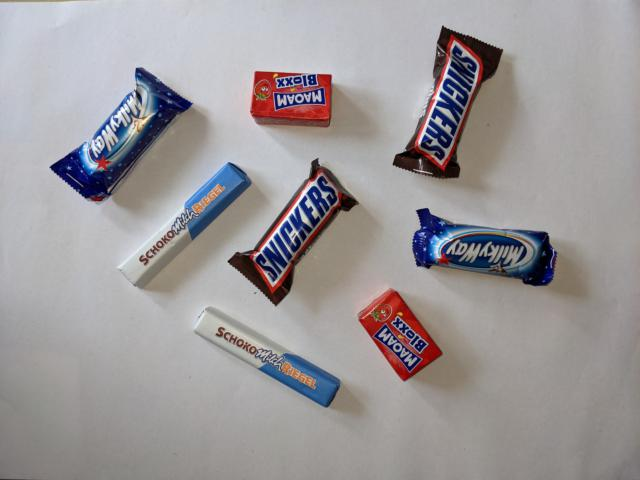MAOAM: (354, 284, 445, 384), (248, 68, 336, 130)
MilkyWay: (47, 64, 195, 207), (410, 206, 559, 288)
Schokoriegel: (114, 159, 255, 292), (188, 303, 343, 410)
Snickers: (225, 156, 363, 309), (390, 24, 506, 181)
